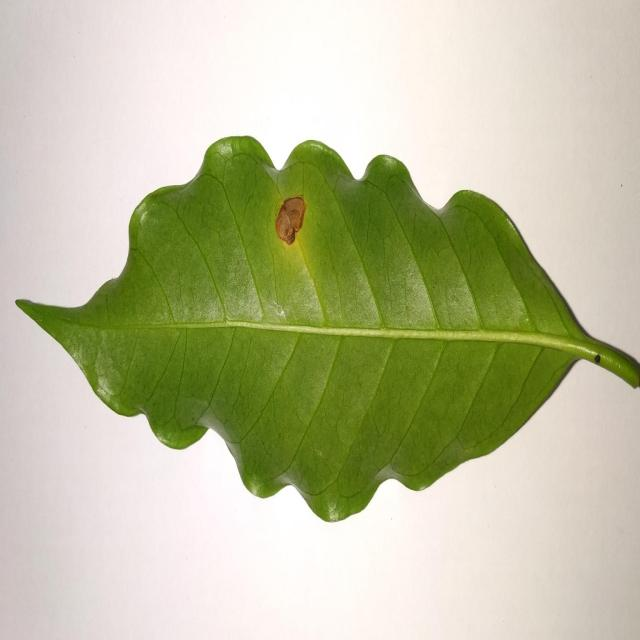Enfermedad-Mancha-de-hierro: (15, 137, 640, 526)
